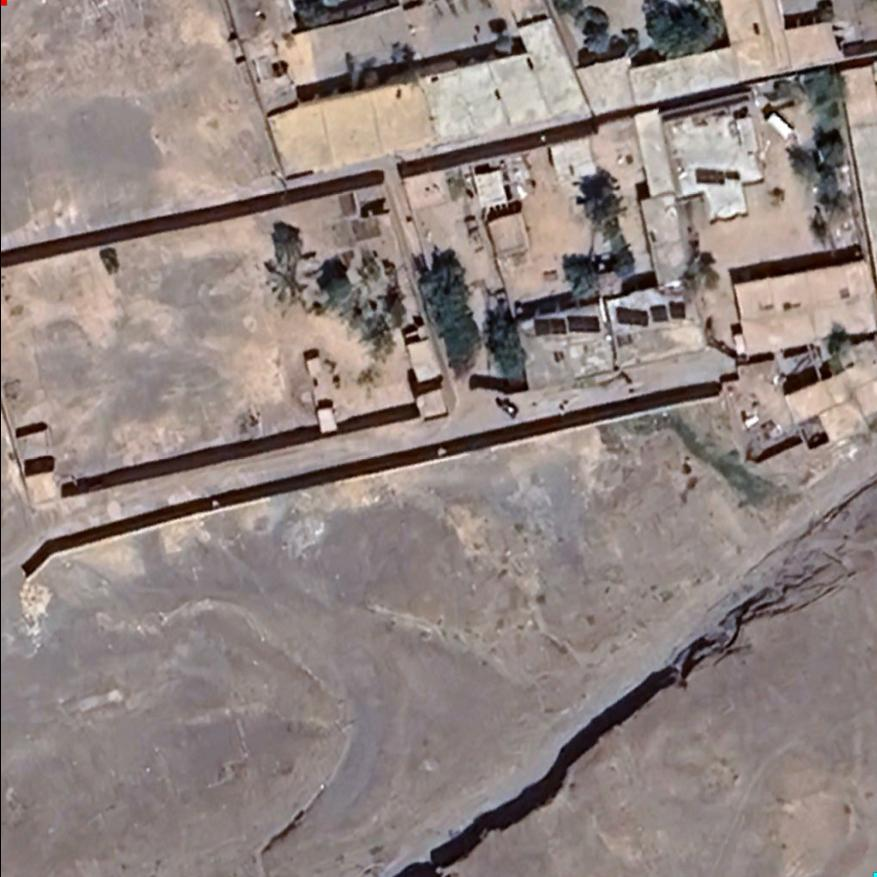Solarpanel: (608, 295, 690, 335), (524, 310, 605, 342)
